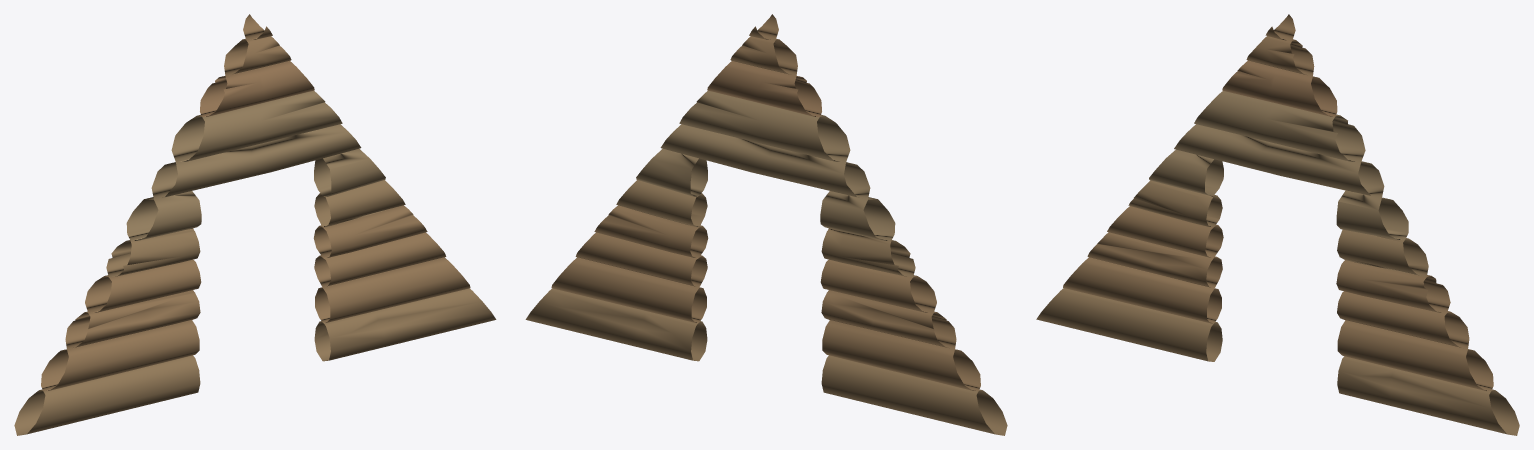
Rendered from rpgpp_ag_roof_end_01_6x5_wall_door_01a.fbx.
3 renders of one model, left to right at view 1: azimuth 30°, elevation 25°; view 2: azimuth 150°, elevation 25°; view 3: azimuth 330°, elevation 25°, orthographic.
Parts seen in each view (by area): view 1: rpgpp_ag_roof_end_01_6x5_wall_door_01a; view 2: rpgpp_ag_roof_end_01_6x5_wall_door_01a; view 3: rpgpp_ag_roof_end_01_6x5_wall_door_01a.
Part boxes in pixels (x1,y1,x2,y2): rpgpp_ag_roof_end_01_6x5_wall_door_01a: (14, 14, 496, 435); rpgpp_ag_roof_end_01_6x5_wall_door_01a: (525, 14, 1007, 435); rpgpp_ag_roof_end_01_6x5_wall_door_01a: (1036, 14, 1519, 435).
Size of the model in its own units: 6.36 by 4.55 by 0.5143.
